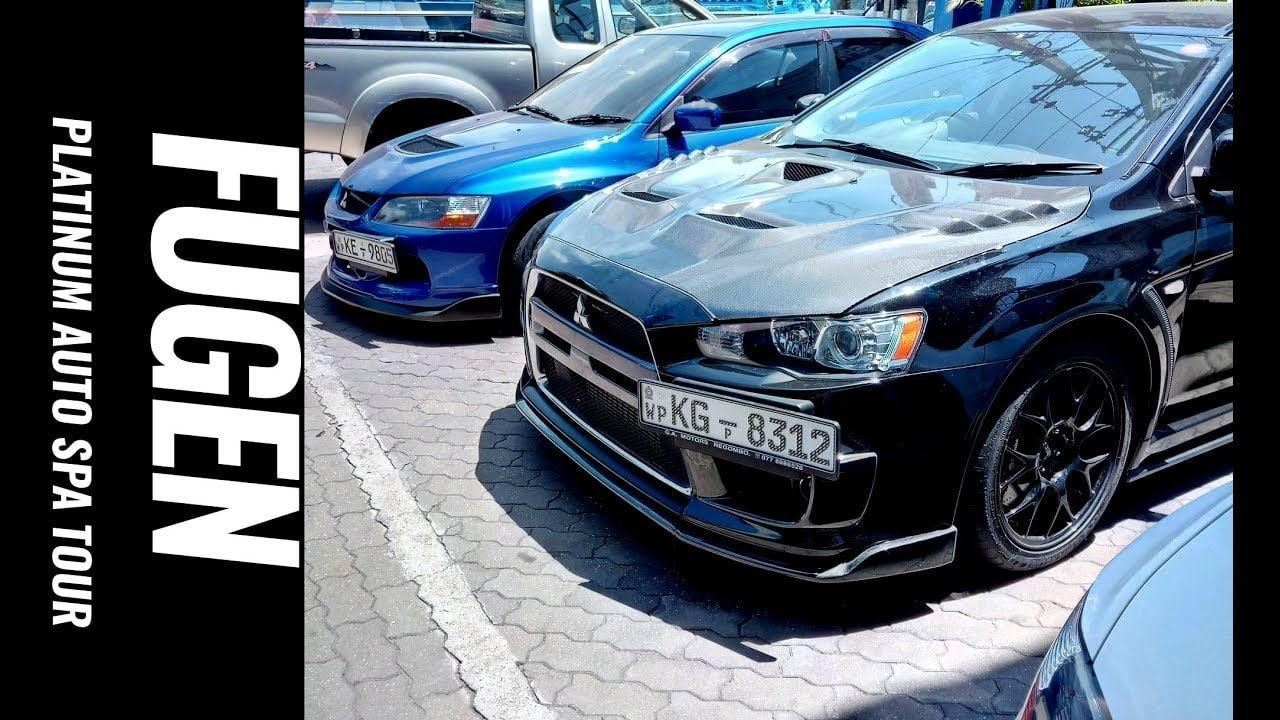license-plate: (641, 377, 837, 474), (330, 228, 396, 270)
